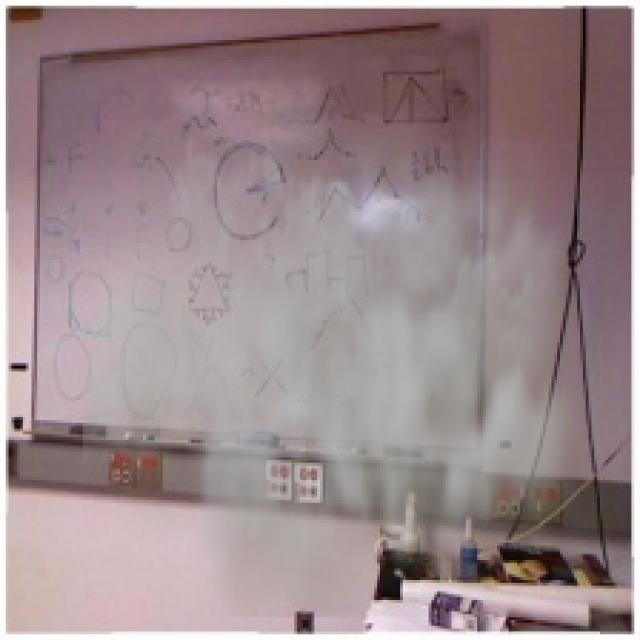Smoke: (83, 82, 612, 618)
